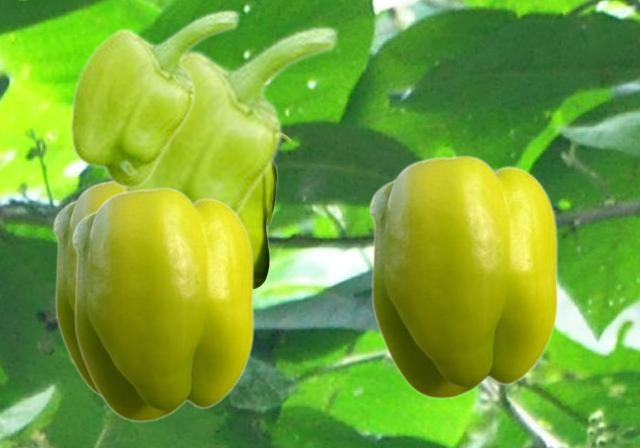bell_pepper: (368, 154, 557, 398), (71, 186, 253, 421), (121, 24, 339, 219), (68, 8, 240, 189), (52, 180, 120, 396), (241, 134, 290, 290)
